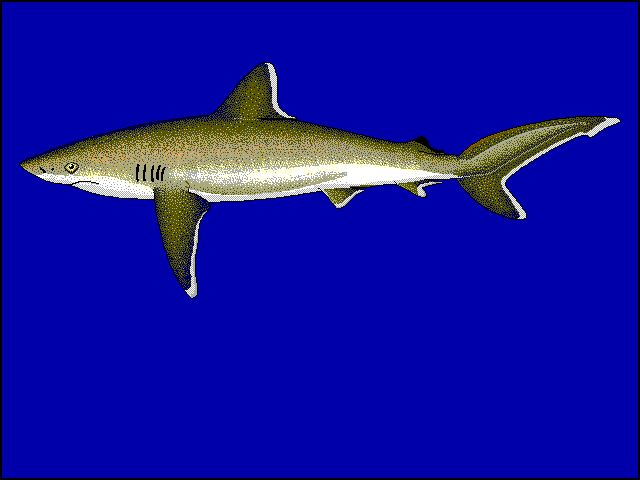fish: (21, 61, 622, 302)
